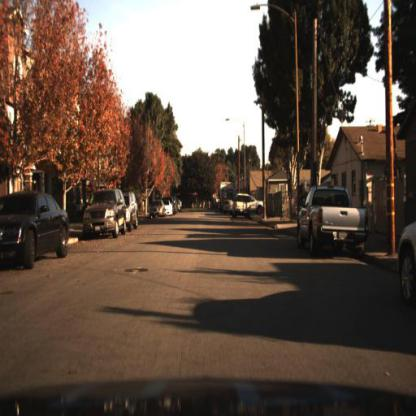car: (292, 175, 377, 263), (1, 193, 71, 272), (79, 188, 127, 244), (400, 217, 416, 310), (123, 185, 141, 231), (231, 190, 254, 219), (128, 185, 142, 231), (148, 199, 166, 222), (248, 193, 265, 216), (163, 197, 175, 220)
